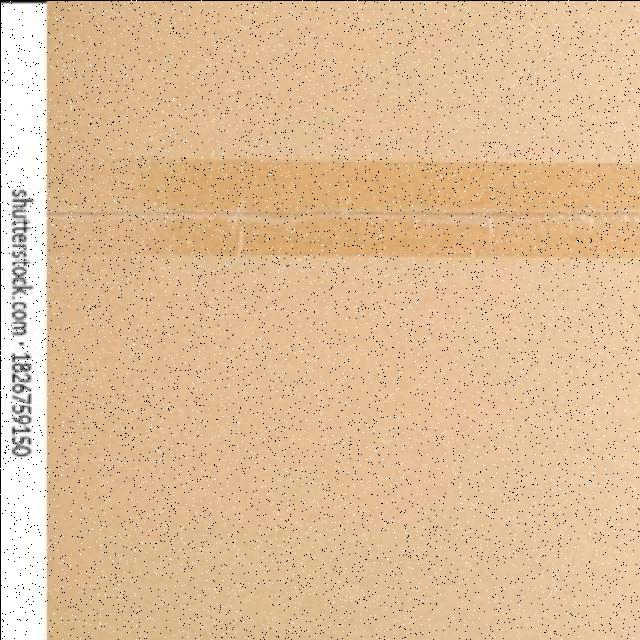normal: (44, 1, 636, 412)
